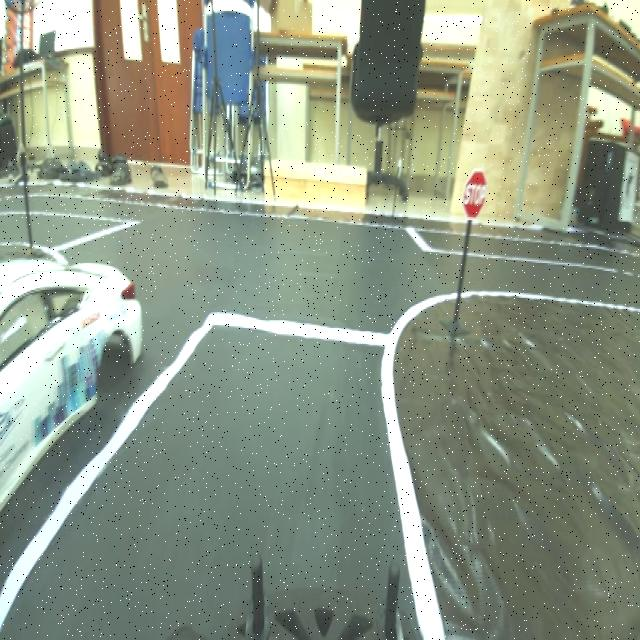car: (1, 226, 146, 428)
stop: (462, 160, 489, 222)
